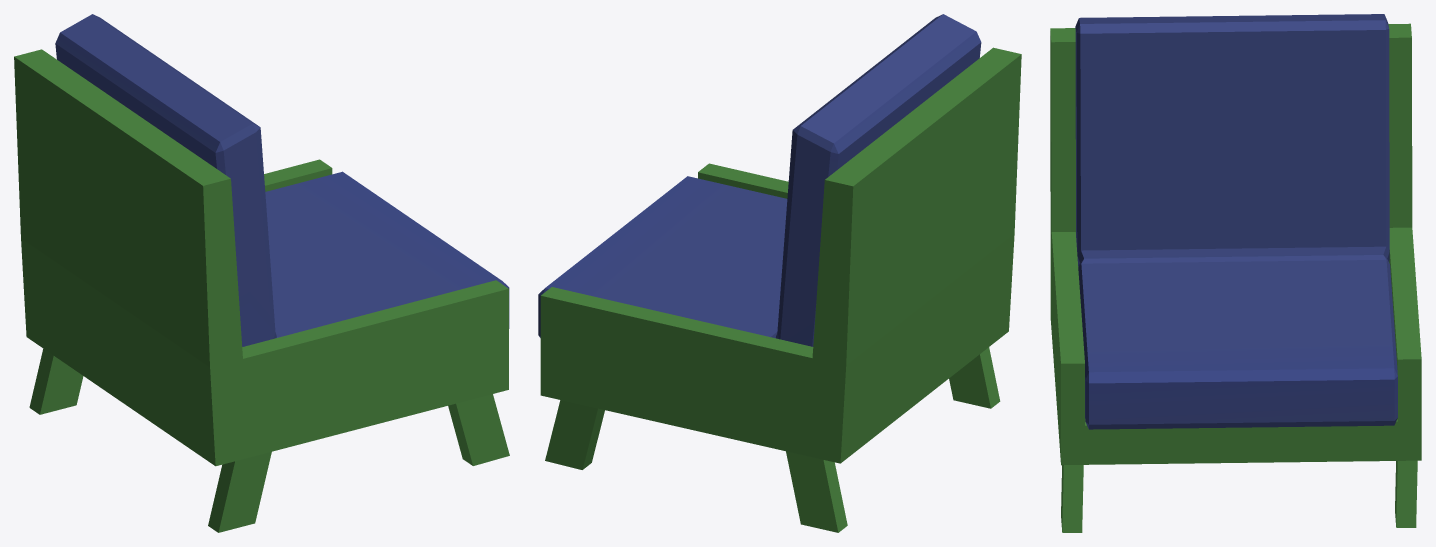
File: Office_Chair_2.fbx
3 renders of one model, left to right at view 1: azimuth 30°, elevation 25°; view 2: azimuth 150°, elevation 25°; view 3: azimuth 270°, elevation 25°, orthographic.
Visible parts, largest first — view 1: Office_Chair_2; view 2: Office_Chair_2; view 3: Office_Chair_2.
Part boxes in pixels (x1,y1,x2,y2): Office_Chair_2: (14,14,509,532); Office_Chair_2: (538,14,1021,532); Office_Chair_2: (1050,14,1421,532).
Size of the model in its own units: 124 by 138 by 118.
